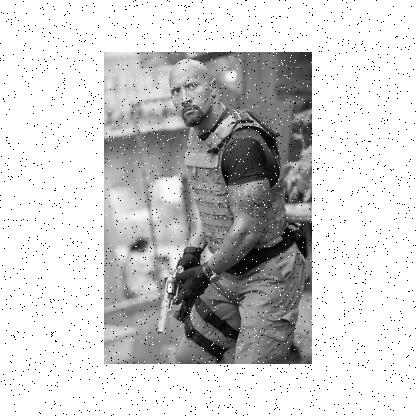gun: (154, 268, 200, 332)
